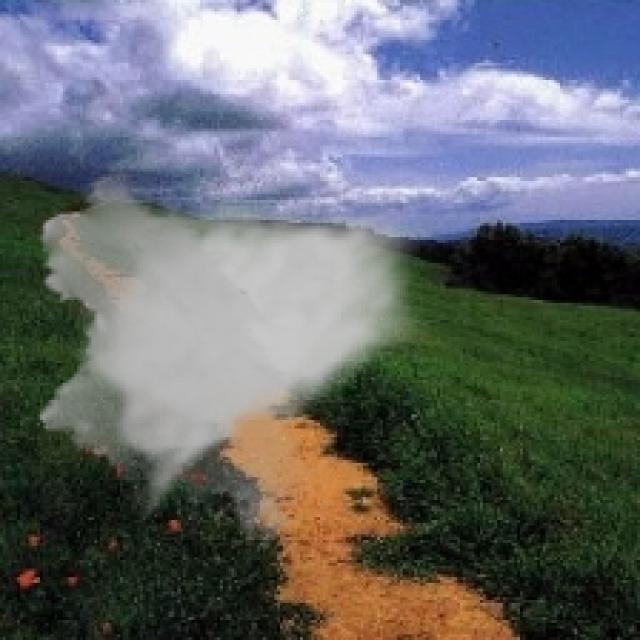Smoke: (29, 163, 432, 552)
